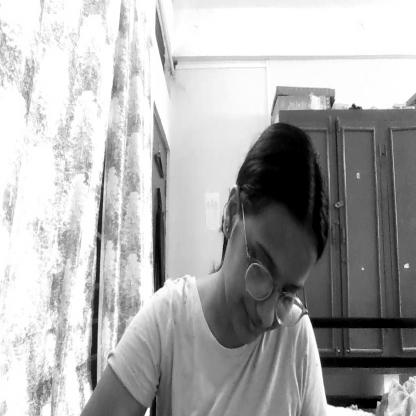Distracted: (222, 119, 327, 344)
